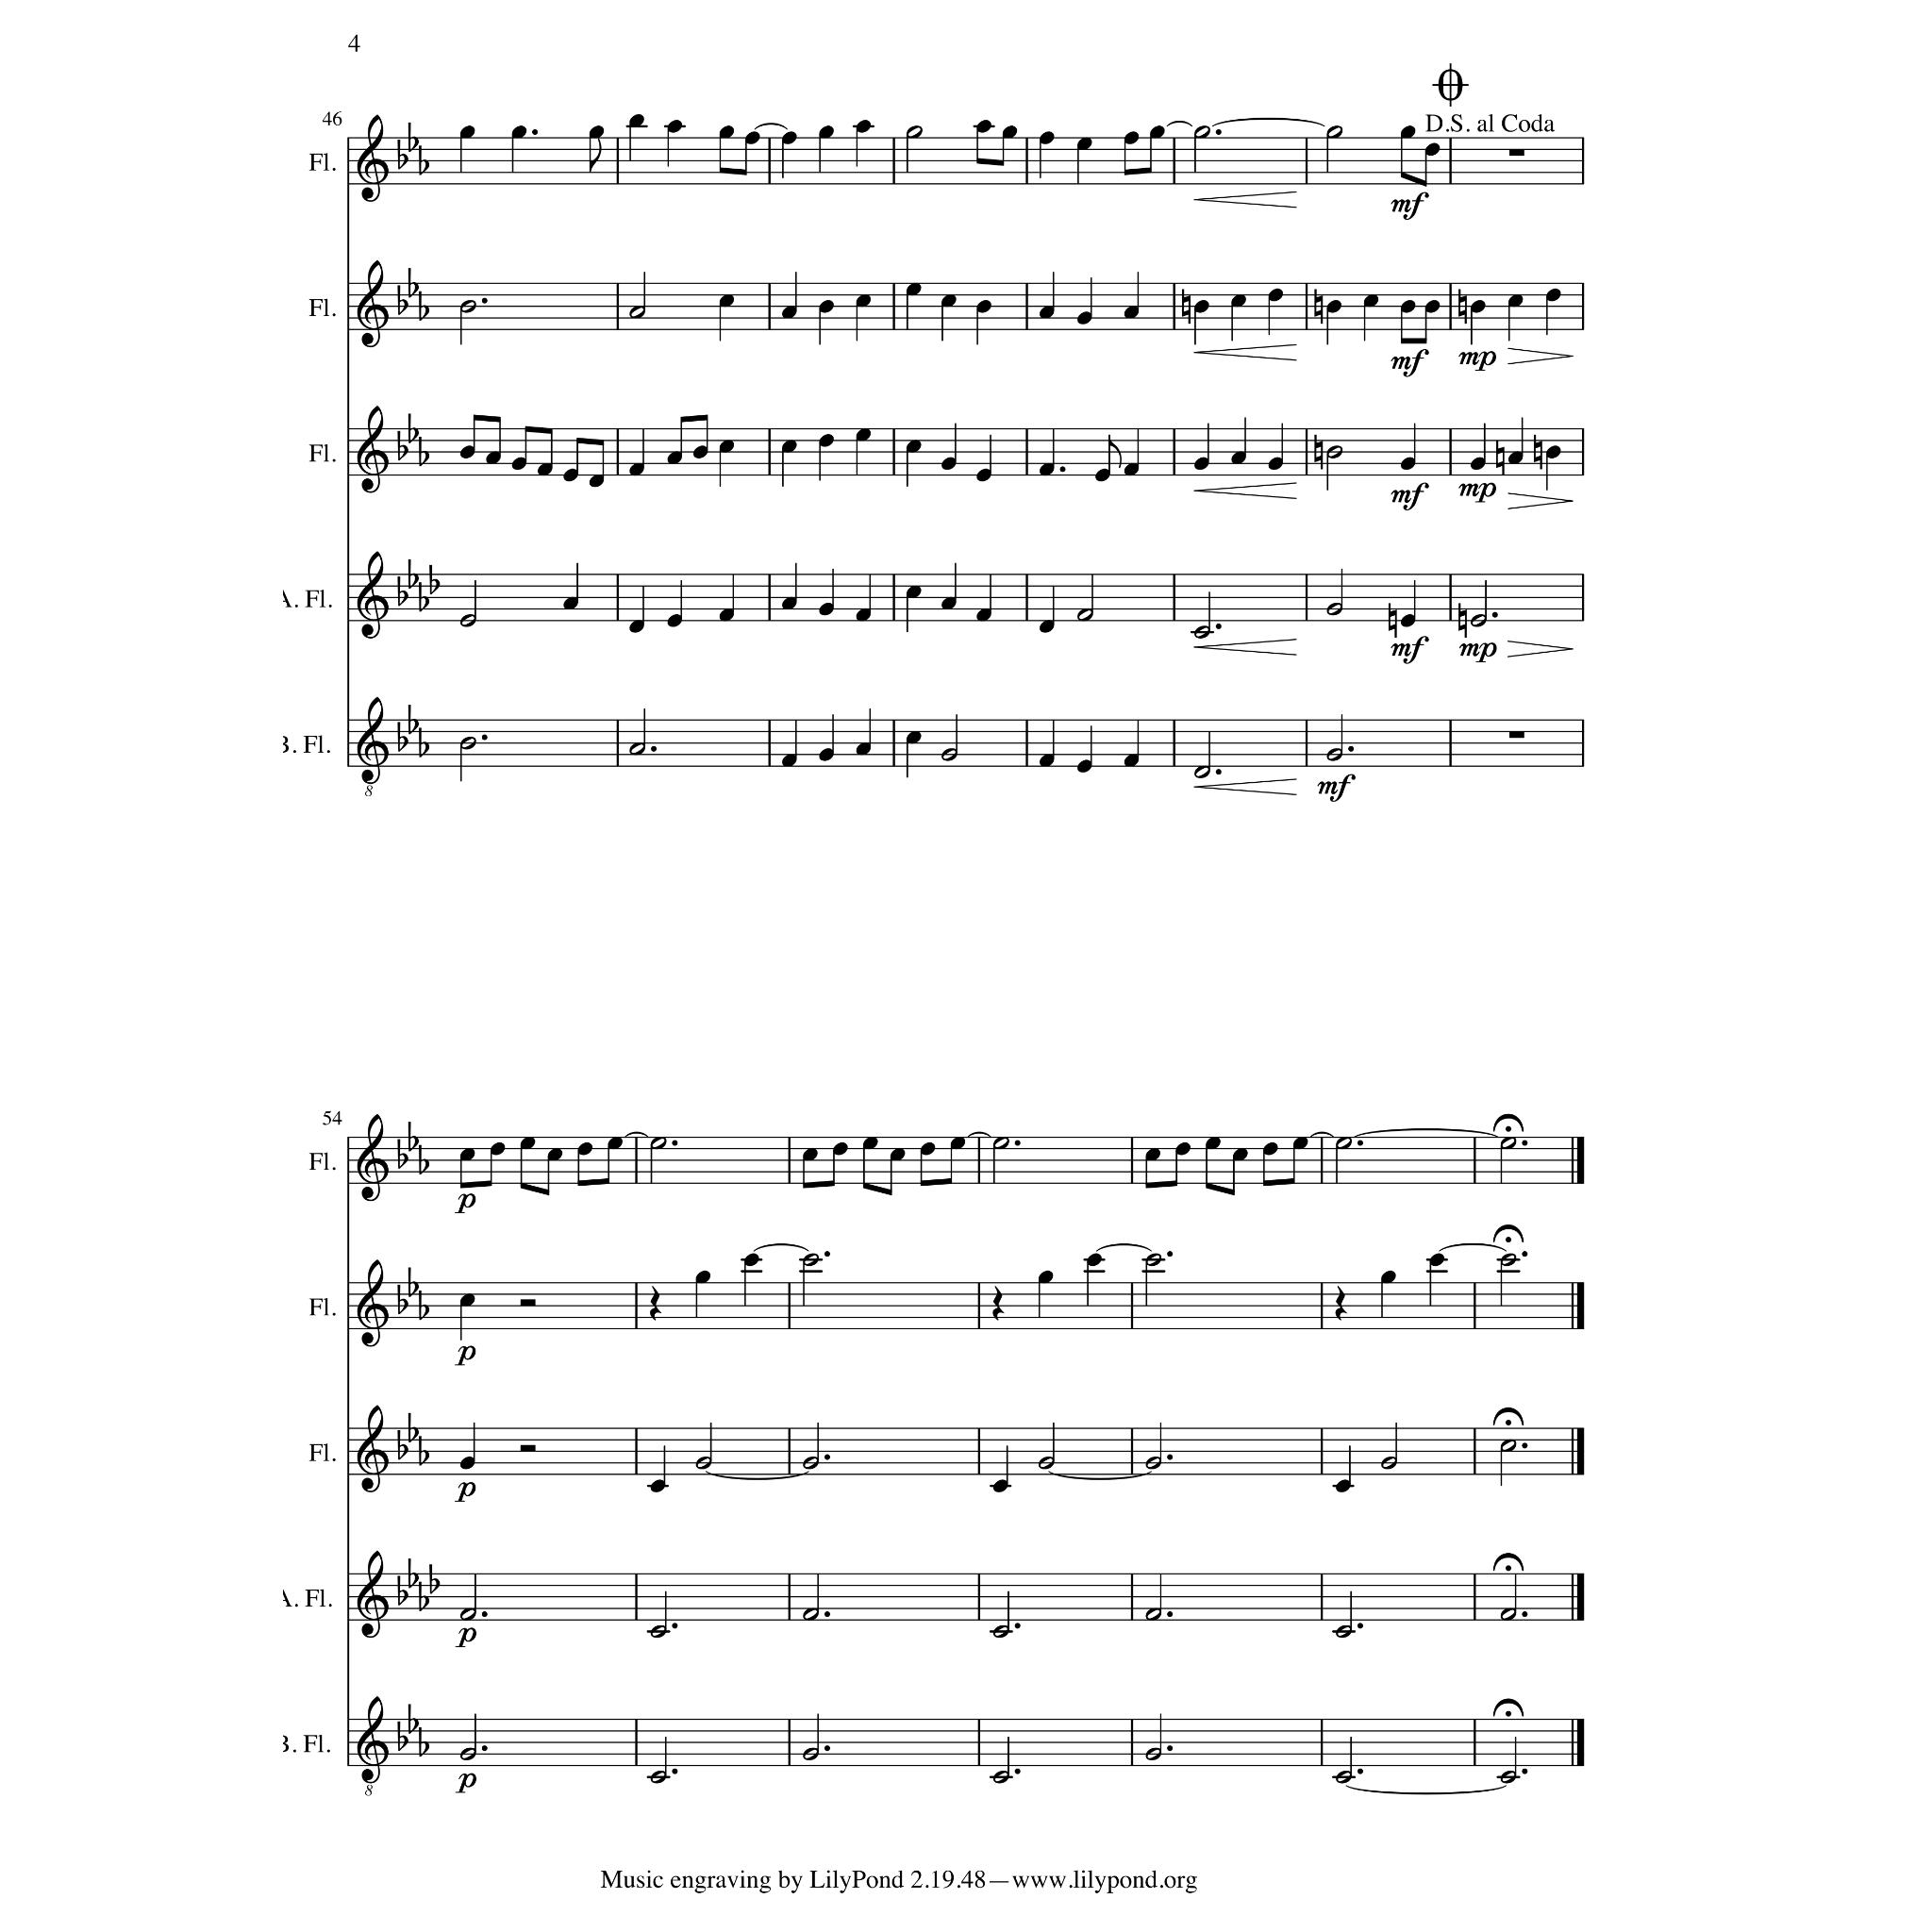flag8thDown: (589, 138, 602, 173)
flag8thUp: (1109, 435, 1122, 469)
gClef: (357, 550, 389, 640), (357, 697, 389, 786), (357, 260, 389, 349), (357, 405, 389, 494), (357, 115, 389, 203), (357, 1550, 389, 1638), (357, 1258, 389, 1346), (357, 1405, 389, 1493), (357, 1695, 389, 1783), (357, 1113, 389, 1201)
noteheadBlack: (587, 126, 605, 140), (587, 474, 605, 488), (1039, 464, 1054, 478), (1267, 288, 1283, 303), (1231, 294, 1247, 308), (1231, 451, 1247, 465), (1076, 311, 1092, 326), (1076, 759, 1092, 773), (1150, 126, 1166, 140), (1123, 464, 1139, 478), (1507, 294, 1523, 308), (1507, 451, 1523, 465), (1546, 288, 1562, 303), (1362, 294, 1378, 308), (1399, 126, 1415, 140), (1399, 614, 1415, 628), (1424, 143, 1440, 157), (628, 464, 644, 478), (718, 126, 734, 140), (718, 294, 734, 308), (1001, 126, 1017, 140), (667, 451, 683, 465), (667, 614, 683, 628), (458, 126, 474, 140), (511, 126, 527, 140), (536, 464, 552, 478), (485, 451, 501, 465), (906, 586, 922, 600), (906, 731, 922, 745), (941, 294, 957, 308), (819, 126, 835, 140), (819, 602, 835, 616), (855, 294, 870, 308), (855, 428, 870, 442), (819, 433, 835, 448), (1175, 1141, 1191, 1155), (1336, 1479, 1352, 1493), (1263, 1141, 1279, 1155), (1037, 1270, 1053, 1284), (1086, 1253, 1102, 1267), (1380, 1270, 1396, 1284), (1430, 1253, 1445, 1267), (577, 1141, 593, 1155), (649, 1479, 665, 1493), (458, 1456, 474, 1470), (920, 1141, 936, 1155), (833, 1141, 849, 1155), (993, 1479, 1008, 1493), (695, 1270, 711, 1284), (743, 1253, 759, 1267), (1468, 301, 1486, 313), (1468, 458, 1486, 471), (801, 1148, 819, 1161), (490, 1141, 504, 1155), (1039, 306, 1054, 318), (1039, 133, 1054, 145), (1039, 621, 1054, 633), (1039, 754, 1054, 766), (1267, 458, 1283, 471), (1325, 301, 1341, 313), (1076, 138, 1092, 150), (1192, 301, 1208, 313), (1192, 458, 1208, 471), (1093, 469, 1109, 481), (1123, 133, 1139, 145), (1123, 306, 1139, 318), (1123, 754, 1139, 766), (1546, 446, 1562, 458), (1399, 301, 1415, 313), (1399, 458, 1415, 471), (1424, 301, 1440, 313), (628, 115, 644, 127), (628, 621, 644, 633), (692, 446, 708, 458), (718, 441, 734, 453), (718, 609, 734, 621), (667, 120, 683, 133), (458, 446, 474, 458), (511, 458, 527, 471), (563, 469, 579, 481), (563, 598, 579, 610), (906, 283, 922, 295), (906, 441, 922, 453), (977, 120, 993, 133), (977, 301, 993, 313), (977, 469, 993, 481), (977, 609, 993, 621), (941, 458, 957, 471), (941, 598, 957, 610), (780, 754, 796, 766), (780, 598, 796, 610), (780, 441, 796, 453), (819, 301, 835, 313), (855, 120, 870, 133), (855, 609, 870, 621), (855, 743, 870, 755), (819, 748, 835, 761), (780, 133, 796, 145), (780, 306, 796, 318), (1205, 1138, 1221, 1150), (1231, 1148, 1247, 1161), (1292, 1138, 1307, 1150), (1145, 1148, 1161, 1161), (607, 1138, 623, 1150), (520, 1138, 536, 1150), (547, 1148, 563, 1161), (458, 1148, 474, 1161), (458, 1293, 474, 1306), (890, 1148, 906, 1161), (862, 1138, 878, 1150), (950, 1138, 966, 1150), (745, 133, 759, 145)
noteheadHalf: (1380, 1456, 1398, 1470), (801, 1253, 819, 1267), (801, 1456, 819, 1470), (801, 1608, 819, 1622), (801, 1746, 819, 1760), (695, 1456, 713, 1470), (1327, 126, 1343, 140), (1327, 602, 1343, 616), (1194, 126, 1210, 140), (1470, 614, 1486, 628), (460, 614, 476, 628), (460, 736, 476, 750), (906, 126, 922, 140), (1039, 1456, 1054, 1470), (1145, 1253, 1161, 1267), (1145, 1456, 1161, 1470), (1145, 1608, 1161, 1622), (1145, 1746, 1161, 1760), (1500, 1253, 1516, 1267), (1500, 1608, 1516, 1622), (460, 1608, 476, 1622), (460, 1746, 476, 1760), (1076, 609, 1093, 621), (628, 306, 646, 318), (628, 743, 646, 755), (1334, 1138, 1352, 1150), (1334, 1626, 1352, 1638), (1334, 1771, 1352, 1783), (649, 1138, 667, 1150), (649, 1626, 667, 1638), (649, 1771, 667, 1783), (993, 1138, 1010, 1150), (993, 1626, 1010, 1638), (993, 1771, 1010, 1783), (1327, 446, 1343, 458), (1327, 748, 1343, 761), (1194, 626, 1210, 639), (1194, 766, 1210, 778), (460, 301, 476, 313), (941, 748, 957, 761), (1500, 1440, 1516, 1453), (1500, 1771, 1516, 1783), (1500, 1138, 1516, 1150)
restHalf: (520, 1444, 536, 1453), (520, 1299, 536, 1306)
restQuarter: (1334, 1284, 1346, 1320), (649, 1284, 662, 1320), (993, 1284, 1005, 1320)
restWhole: (1507, 149, 1523, 157), (1507, 731, 1523, 738)
